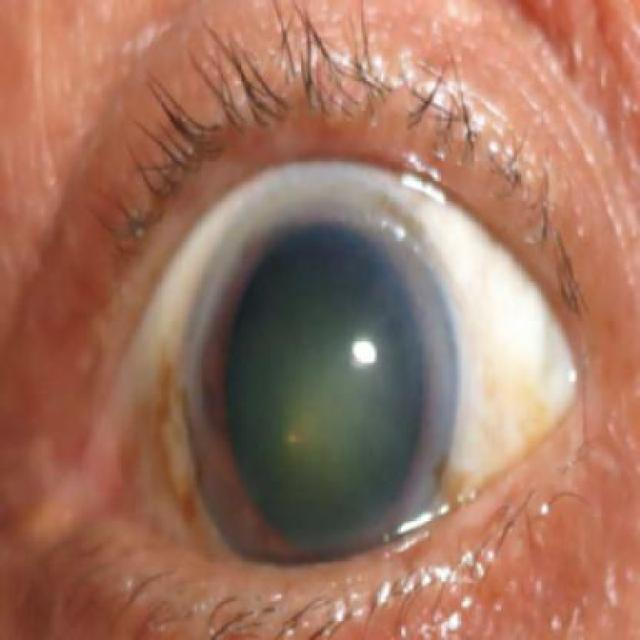Cataract: (183, 183, 462, 591)
